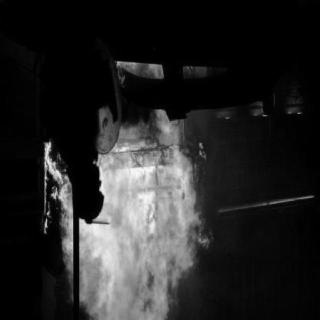Fire: (42, 113, 208, 319)
